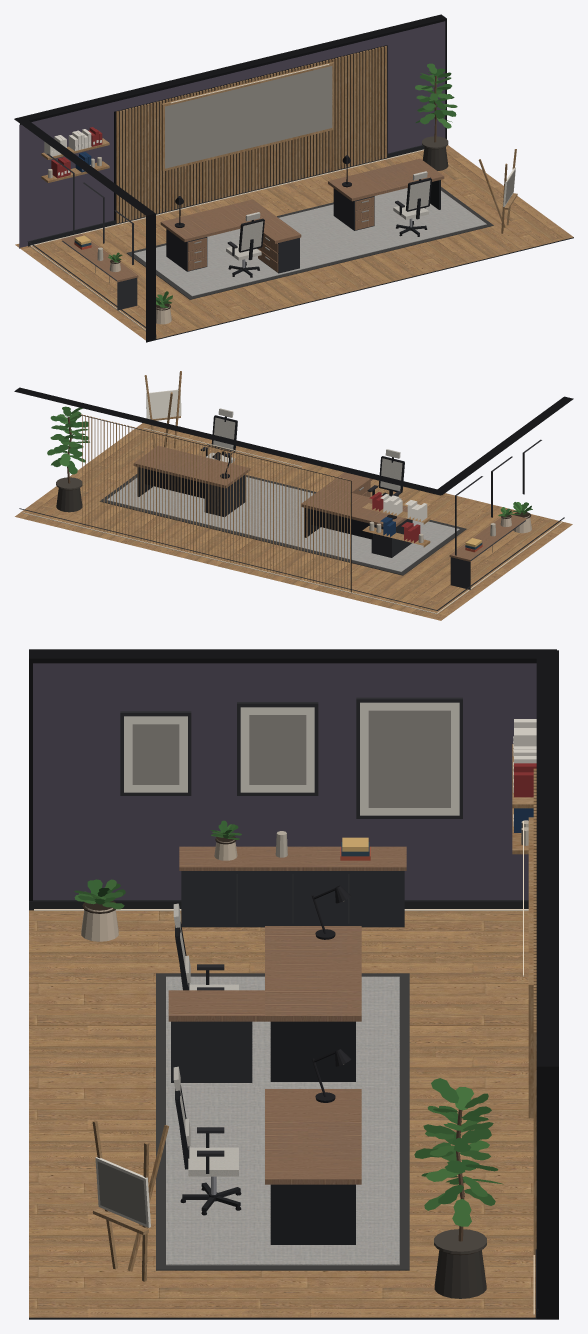
The model's file is design.gltf.
The picture shows the model from 3 angles, top to bottom: view 1: azimuth 30°, elevation 25°; view 2: azimuth 150°, elevation 25°; view 3: azimuth 270°, elevation 25°; orthographic projection. The views are drawn at different scales.
Visible parts, largest first — view 1: room_design, leds_design; view 2: room_design, leds_design; view 3: room_design.
Boxes of the visible parts, left/top/right/bottom form: room_design: left=14, top=14, right=573, bottom=342; leds_design: left=30, top=64, right=423, bottom=330; room_design: left=14, top=371, right=573, bottom=620; leds_design: left=22, top=428, right=562, bottom=613; room_design: left=29, top=649, right=558, bottom=1319.
Bounding box in the file's own units: 9.72 × 2.75 × 5.22.
14 materials, 5 textured.
